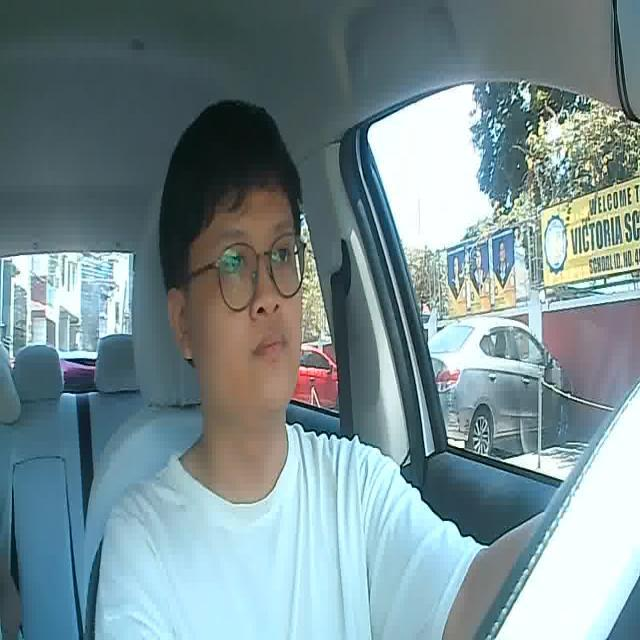Attentive: (174, 105, 320, 422)
Eye-Open: (218, 250, 250, 276), (270, 242, 292, 265)
Normal: (252, 331, 289, 367)
